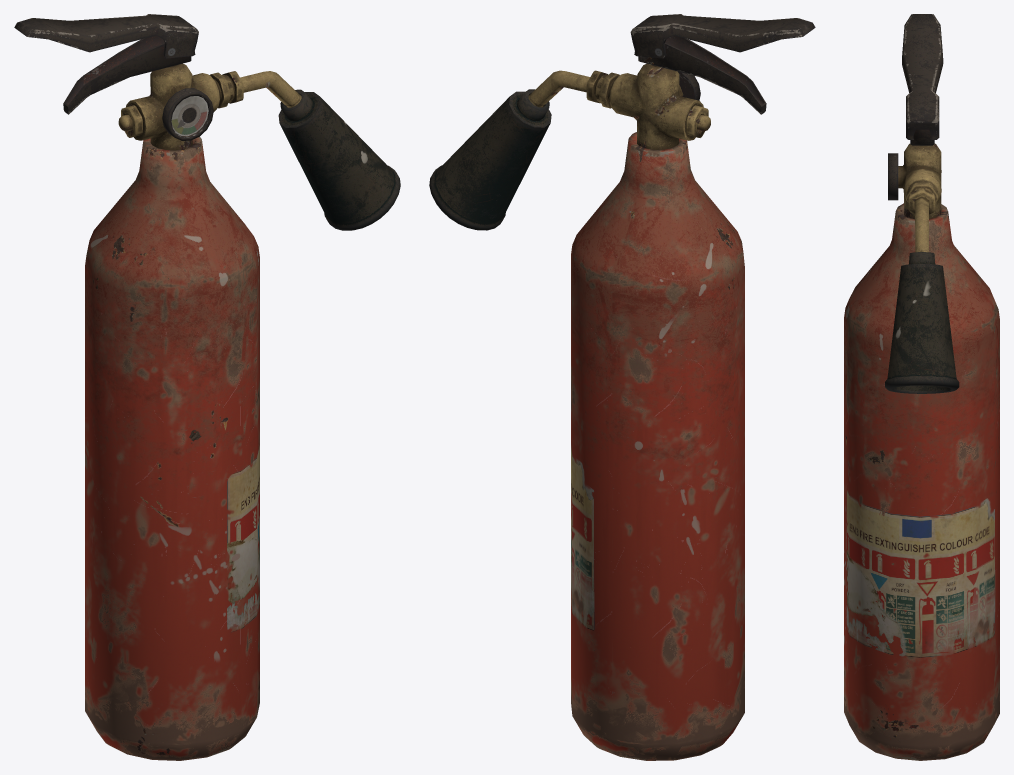
The model's file is Ogne.FBX.
3 views of the same model, side by side, from view 1: azimuth 30°, elevation 25°; view 2: azimuth 150°, elevation 25°; view 3: azimuth 270°, elevation 25° (orthographic). The views are drawn at different scales.
Visible parts, largest first — view 1: Object583; view 2: Object583; view 3: Object583.
Boxes of the visible parts, <box> form: Object583: <box>14,14,400,760</box>; Object583: <box>429,14,815,760</box>; Object583: <box>844,14,999,760</box>.
Bounding box in the file's own units: 42.89 × 81.37 × 17.51.
